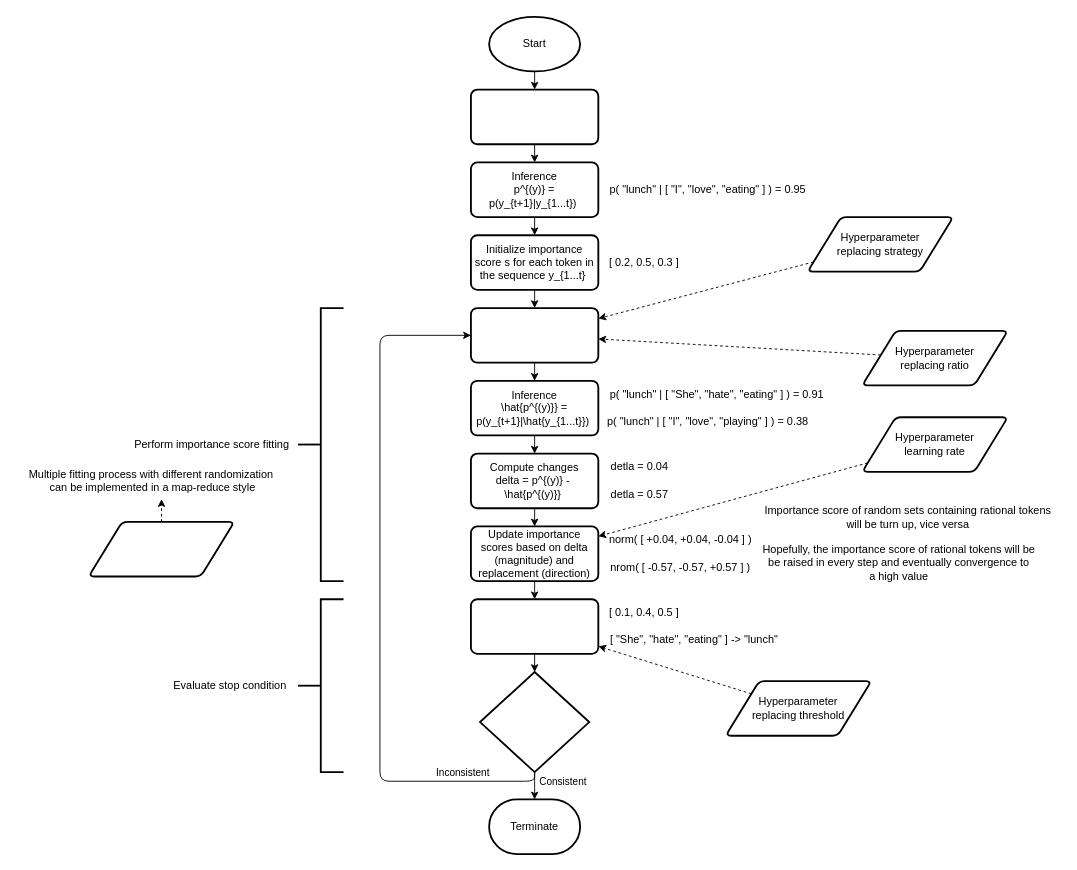
Some shapes in this 1077 by 870 pixel diagram are drawn without their labels. The shapes that lost their labels are listed below. From the top down, each one's centre as x and y in pixels, then its label:
At (x=534, y=116): "Retrive target sequence y_{1...t} and predition y_{t+1}".
At (x=534, y=335): "Randomly replace a set of tokens R to form a new sequence \hat{y_{1...t}}".
At (x=161, y=549): "Hyperparameter batch size".
At (x=534, y=626): "Replace tokens with low importance score and then inference \hat{y^{(e)}_{t+1}}".
At (x=534, y=722): "Whether the result \hat{y^{(e)}_{t+1}} consistent with y_{t+1}".
